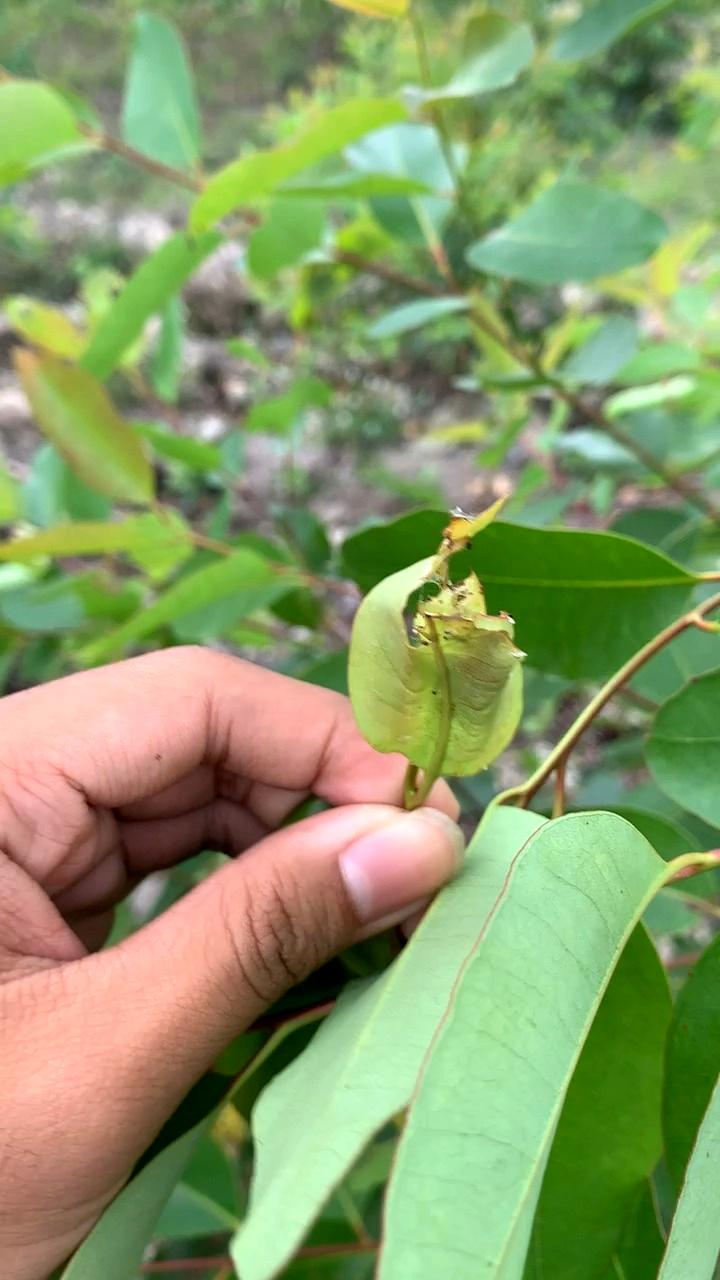Leaf Roller - Leaf: (336, 563, 531, 775)
